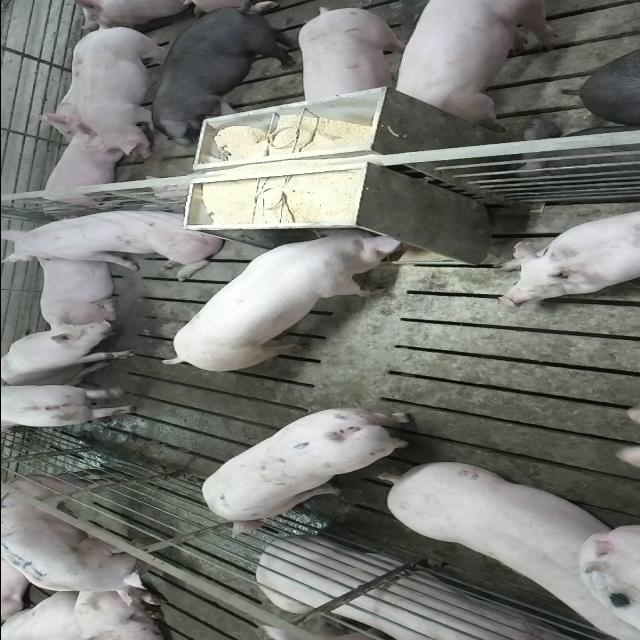Feeding: (161, 220, 411, 368)
Sitting: (4, 204, 230, 274), (0, 320, 138, 386)
Standing: (373, 457, 633, 634), (200, 406, 420, 538), (386, 2, 566, 126), (140, 3, 292, 149), (0, 476, 150, 606), (73, 22, 168, 160), (294, 5, 412, 110), (0, 382, 134, 440)
Sternal_lying: (256, 539, 584, 640), (494, 206, 640, 308), (32, 130, 132, 214), (36, 250, 121, 329)
